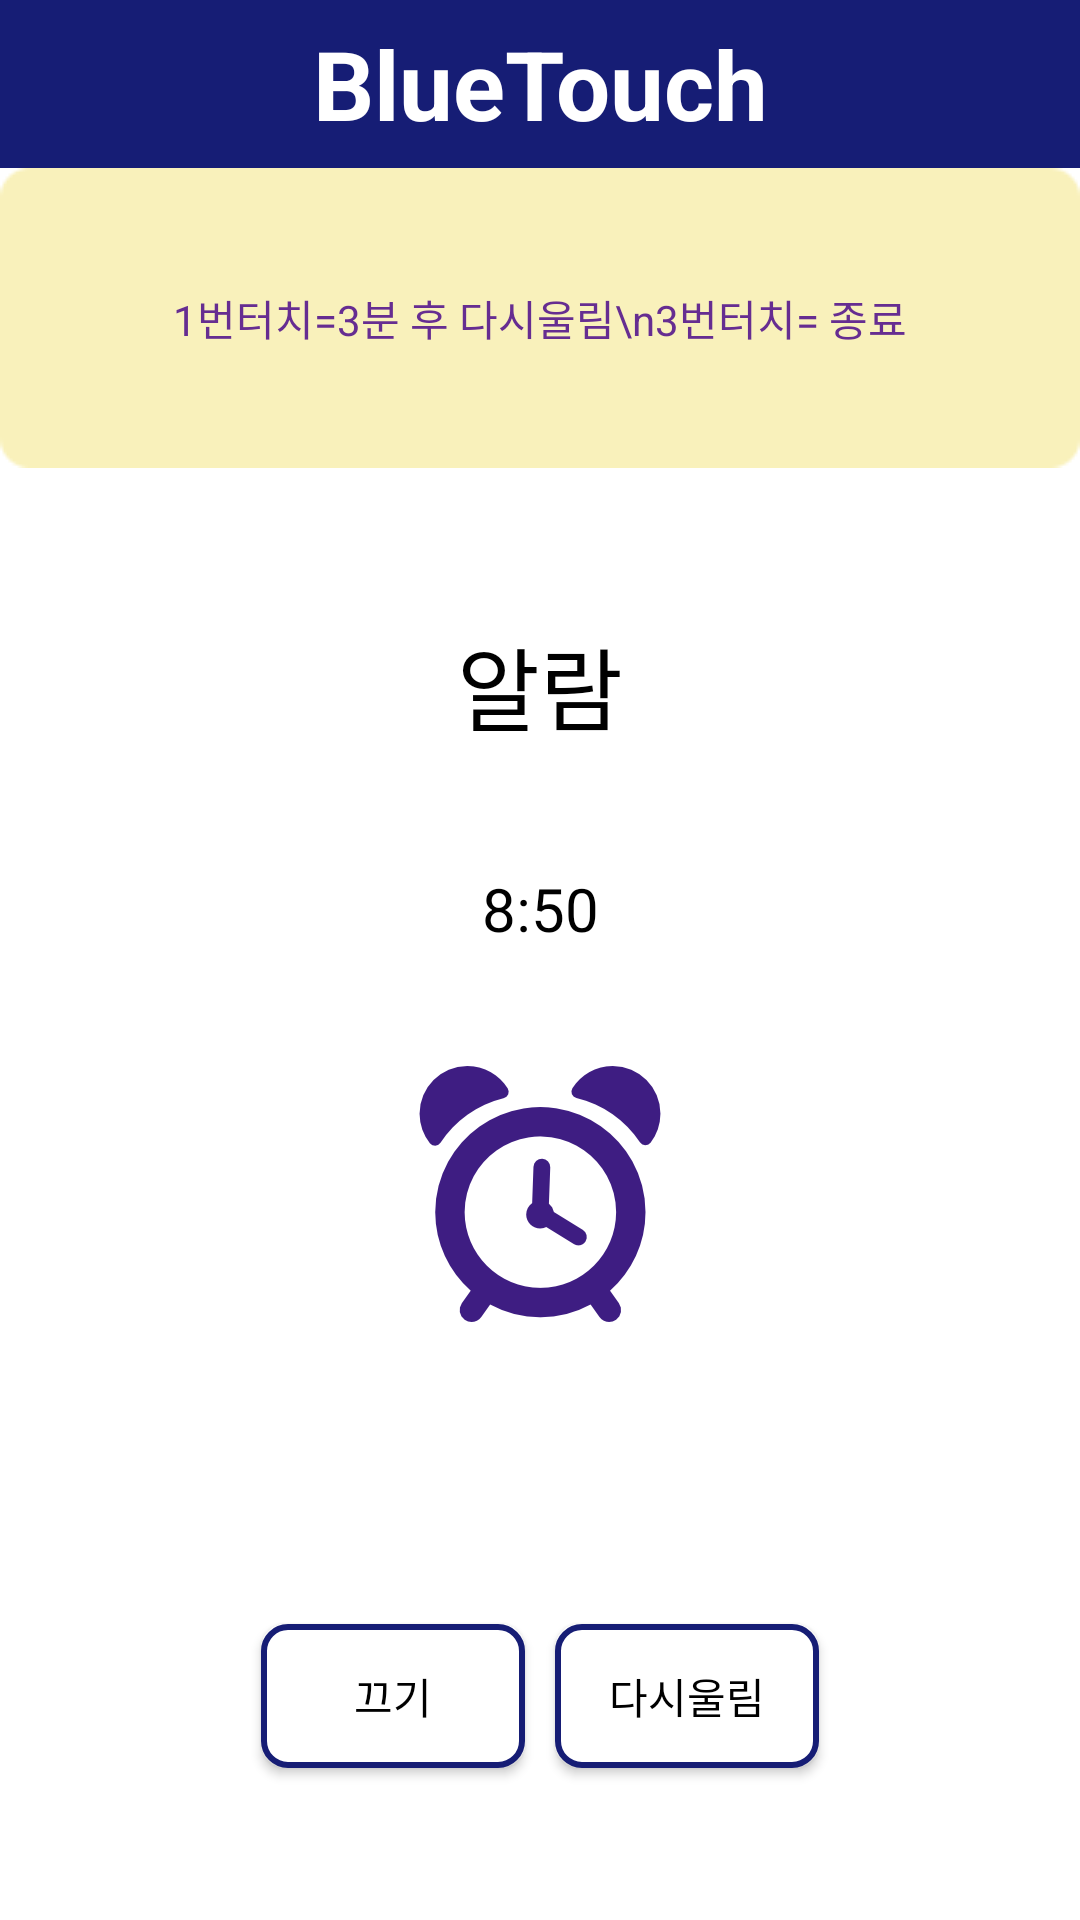

Screen size 1080x1920. Icon name, then its center in pixels as (x,y):
clock: (540,1194)
